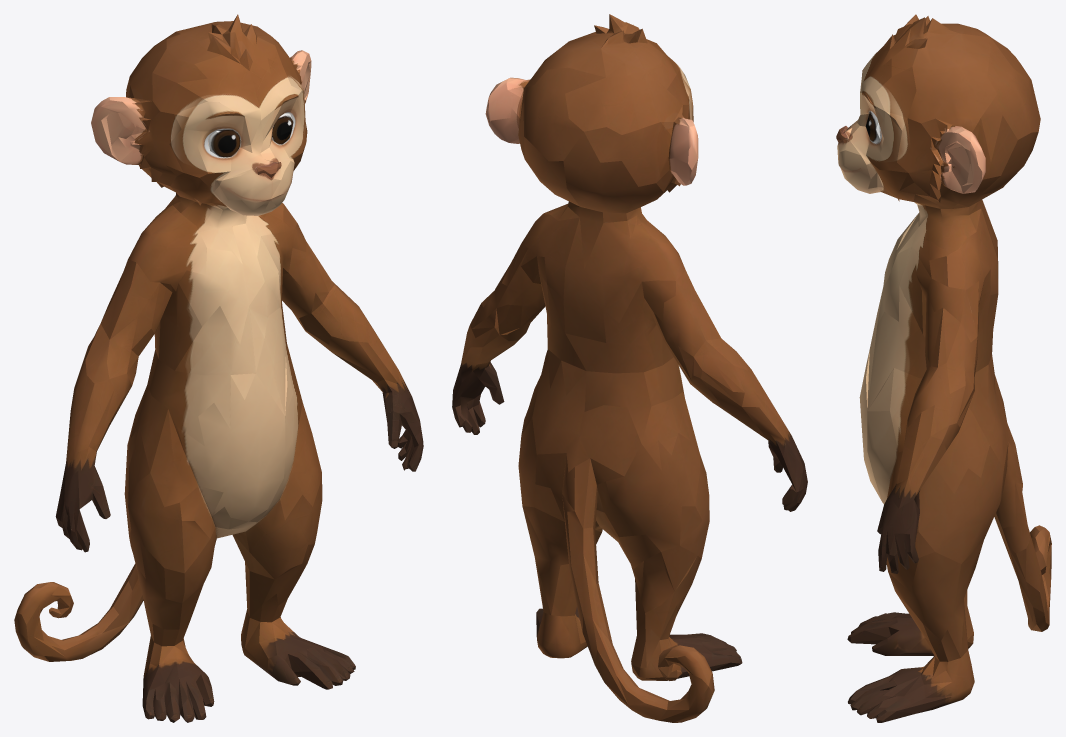
Rendered from monkey.glb.
3 renders of one model, left to right at view 1: azimuth 30°, elevation 25°; view 2: azimuth 150°, elevation 25°; view 3: azimuth 270°, elevation 25°, orthographic. The views are drawn at different scales.
Parts seen in each view (by area): view 1: output_unwrapped; view 2: output_unwrapped; view 3: output_unwrapped.
Boxes of the visible parts, left/top/right/bottom form: output_unwrapped: left=14, top=14, right=423, bottom=722; output_unwrapped: left=452, top=14, right=807, bottom=722; output_unwrapped: left=836, top=14, right=1051, bottom=722.
Size of the model in its own units: 1.07 by 1.9 by 0.5606.
Materials: 1 (1 with a texture image).
